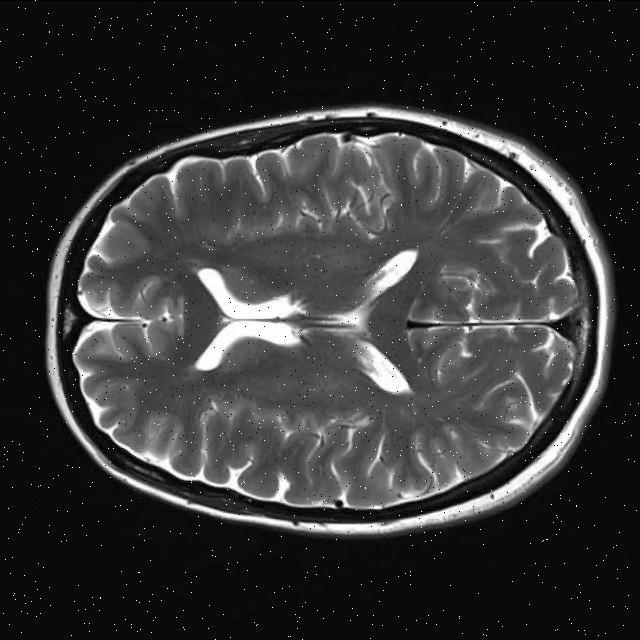No_Tumor: (47, 108, 613, 533)
